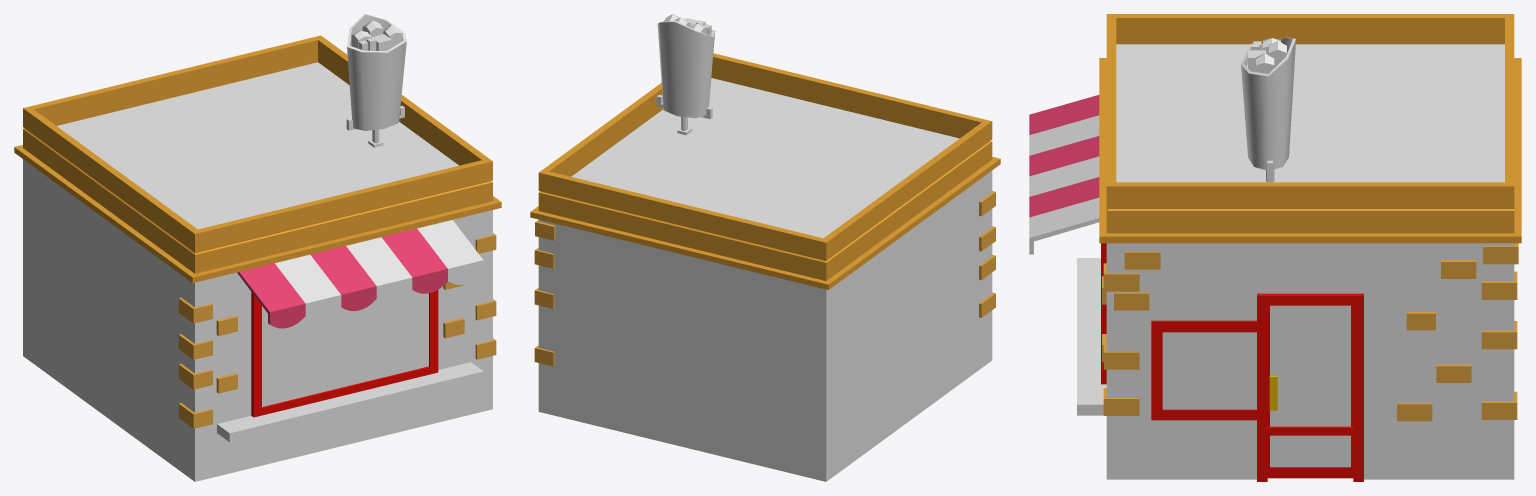
Rendered from Drive-thru-2.fbx.
3 renders of one model, left to right at view 1: azimuth 30°, elevation 25°; view 2: azimuth 150°, elevation 25°; view 3: azimuth 270°, elevation 25°, orthographic. The views are drawn at different scales.
Visible parts, largest first — view 1: Cube.039, Cube.061, Stand, Cube.060; view 2: Cube.039, Stand, Cube.060; view 3: Cube.039, Cube.060, Cube.061, Stand.
Part boxes in pixels (x1=…): Cube.039: x1=14, y1=35, x2=501, y2=481; Cube.061: x1=237, y1=220, x2=483, y2=328; Stand: x1=346, y1=14, x2=406, y2=147; Cube.060: x1=178, y1=233, x2=496, y2=428; Cube.039: x1=530, y1=53, x2=1000, y2=481; Stand: x1=656, y1=14, x2=715, y2=135; Cube.060: x1=534, y1=191, x2=995, y2=366; Cube.039: x1=1077, y1=14, x2=1521, y2=481; Cube.060: x1=1102, y1=243, x2=1518, y2=421; Cube.061: x1=1029, y1=95, x2=1099, y2=254; Stand: x1=1241, y1=37, x2=1295, y2=182.
Size of the model in its own units: 579 by 625 by 675.
